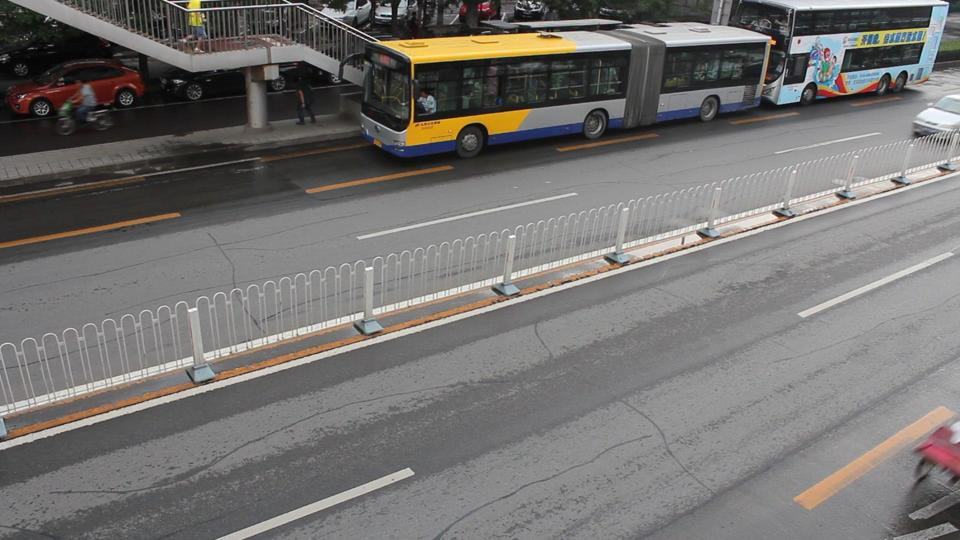Bus: (363, 23, 770, 155), (732, 1, 946, 104)
Car: (1, 60, 145, 116), (156, 48, 298, 96), (309, 33, 416, 87), (436, 35, 545, 83), (909, 95, 960, 141)
